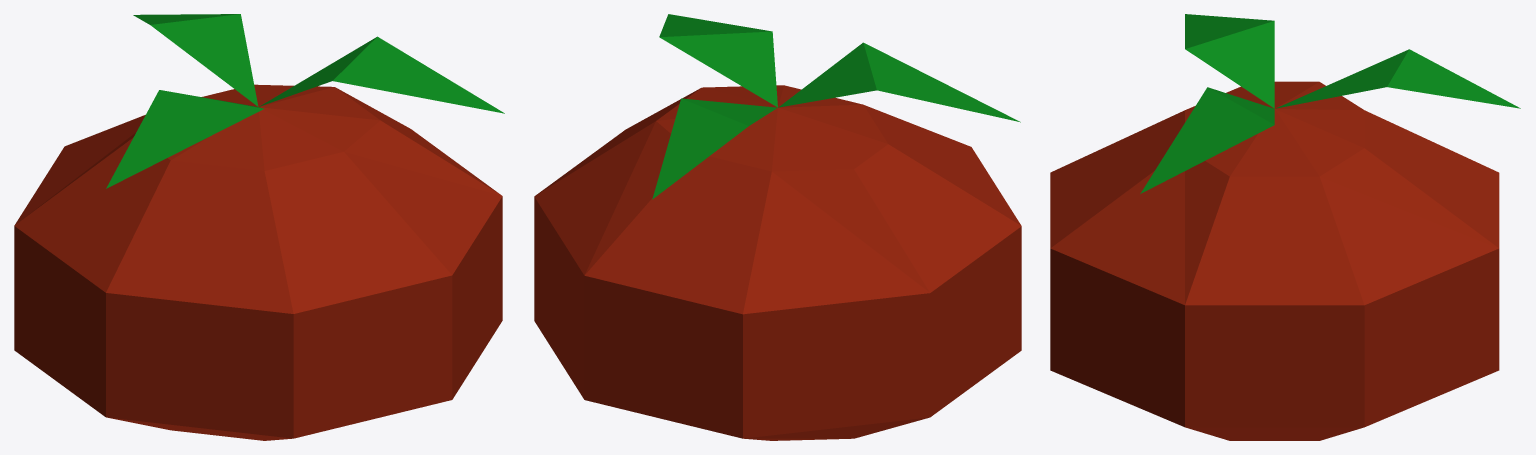
Rendered from inv_tomato.obj.
3 views of the same model, side by side, from view 1: azimuth 30°, elevation 25°; view 2: azimuth 150°, elevation 25°; view 3: azimuth 270°, elevation 25° (orthographic). The views are drawn at different scales.
Bounding box in the file's own units: 0.1562 × 0.125 × 0.1641.
